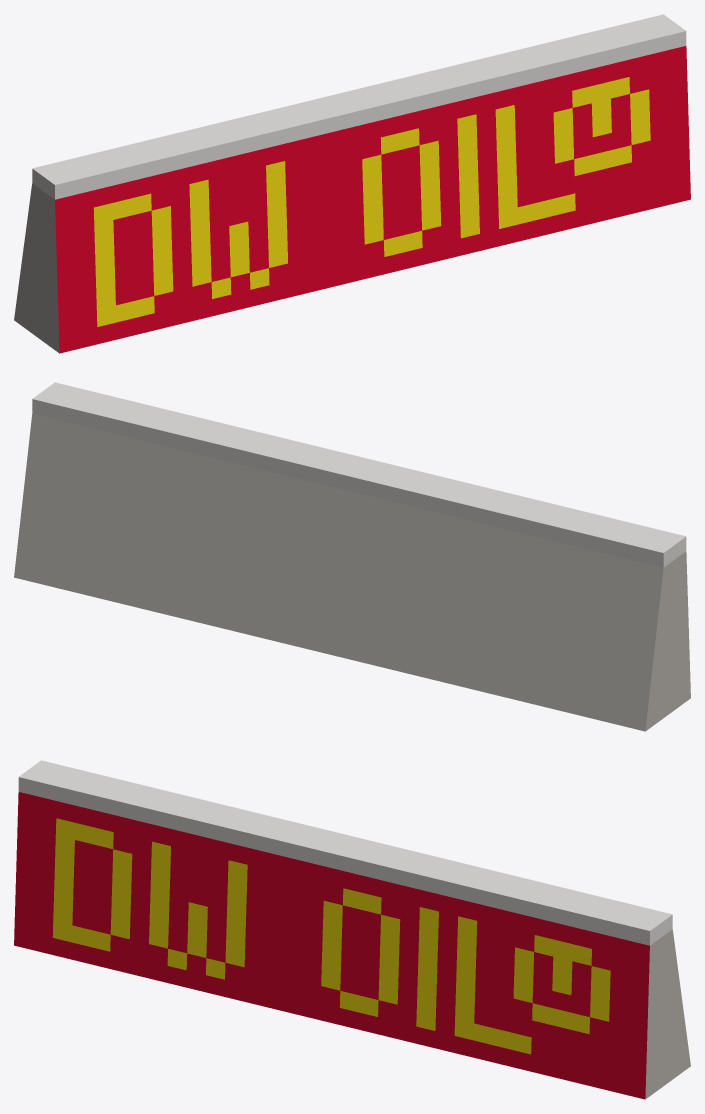
Rendered from DW_OIL.fbx.
3 views of the same model, one above another, from view 1: azimuth 30°, elevation 25°; view 2: azimuth 150°, elevation 25°; view 3: azimuth 330°, elevation 25° (orthographic).
Parts seen in each view (by area): view 1: Cube; view 2: Cube; view 3: Cube.
Boxes of the visible parts, bbox=[...] form: Cube: bbox=[14, 14, 690, 353]; Cube: bbox=[14, 382, 690, 731]; Cube: bbox=[14, 760, 690, 1099].
Size of the model in its own units: 800 by 200 by 100.
